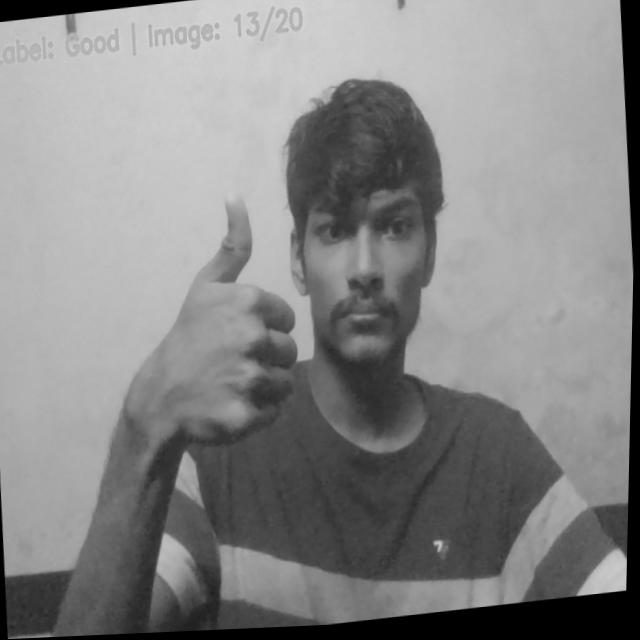Good: (143, 186, 310, 457)
